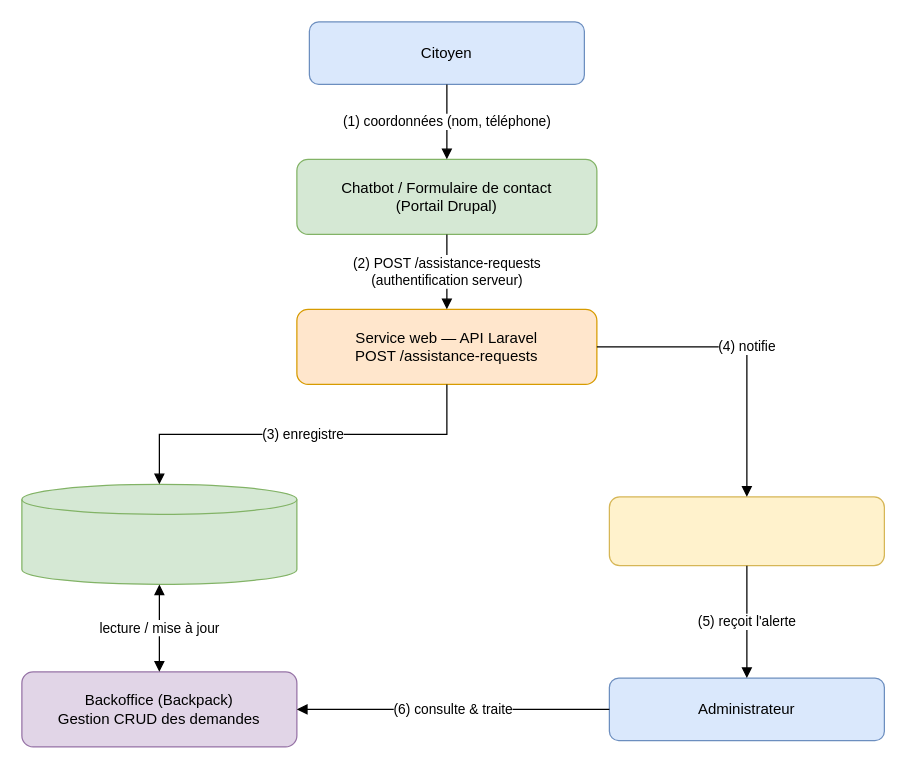
This 906x769 diagram has some shape labels left out. Here are the shapes that lost their labels. From the top down, the centre of each, then its label:
At point (159, 533): "Base de données partagée (table assistance_requests)".
At point (746, 531): "Notification email (Mailtrap)".
